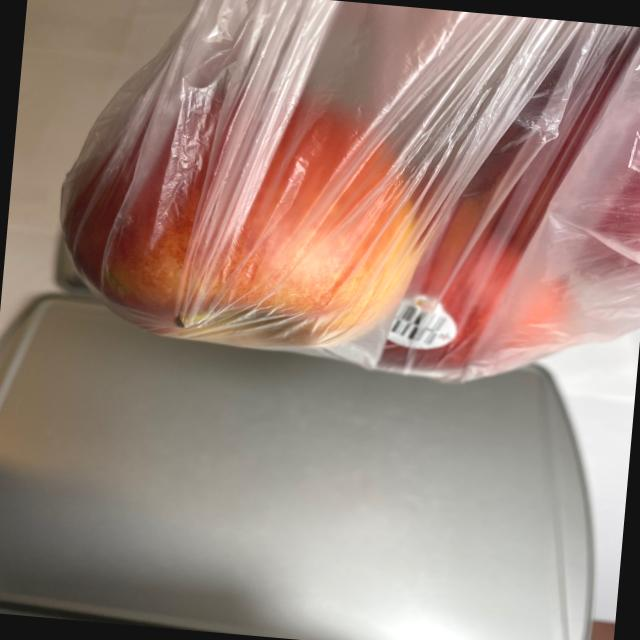apple: (46, 25, 640, 396)
